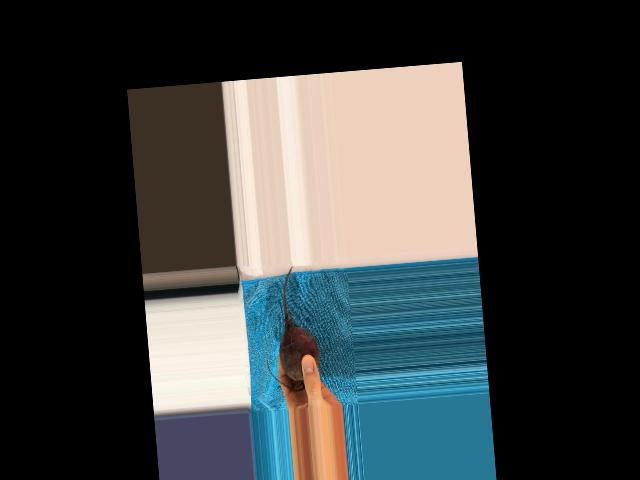beet: (260, 264, 322, 393)
